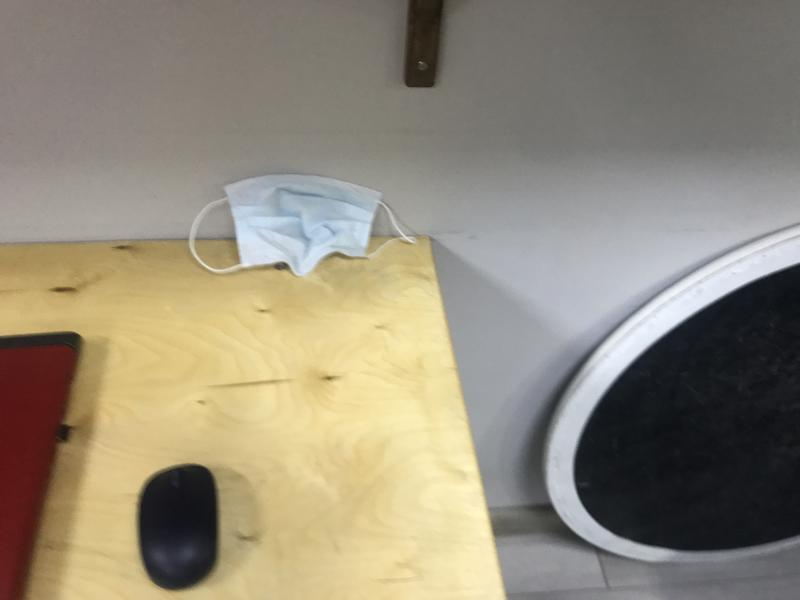medical_mask: (188, 182, 419, 278)
